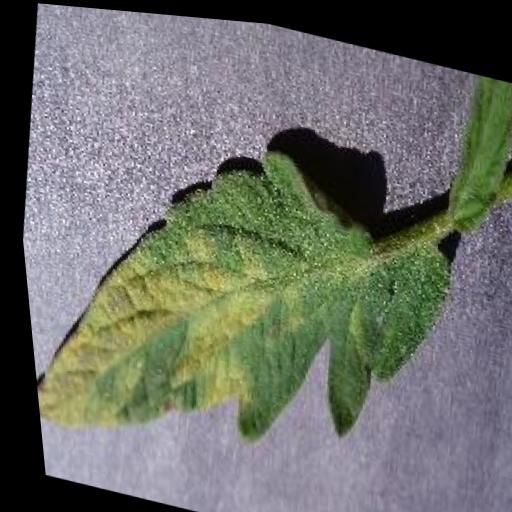Leaf Mold: (7, 88, 474, 507)
